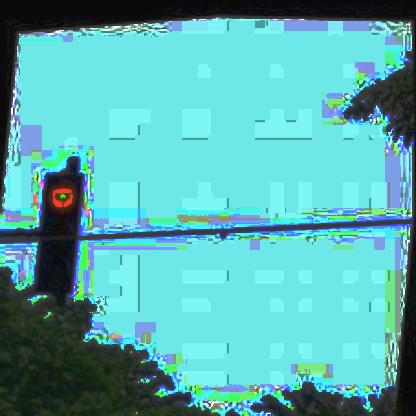Traffic Light -Red-: (36, 164, 85, 290)
